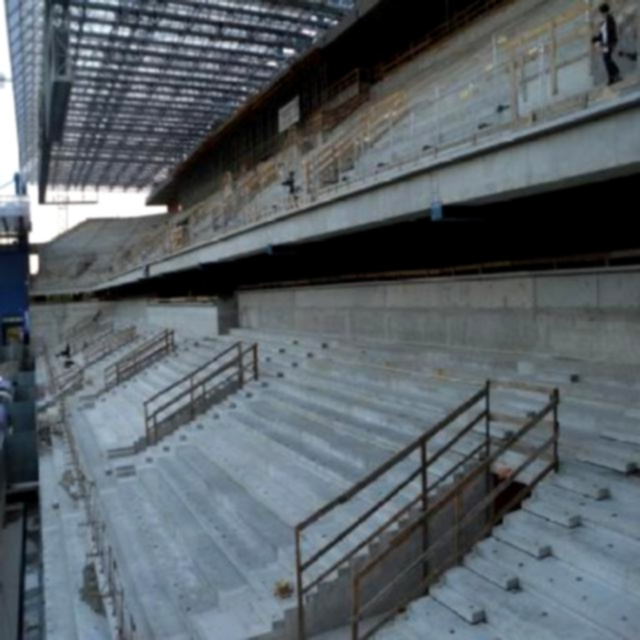stair: (29, 0, 640, 640)
